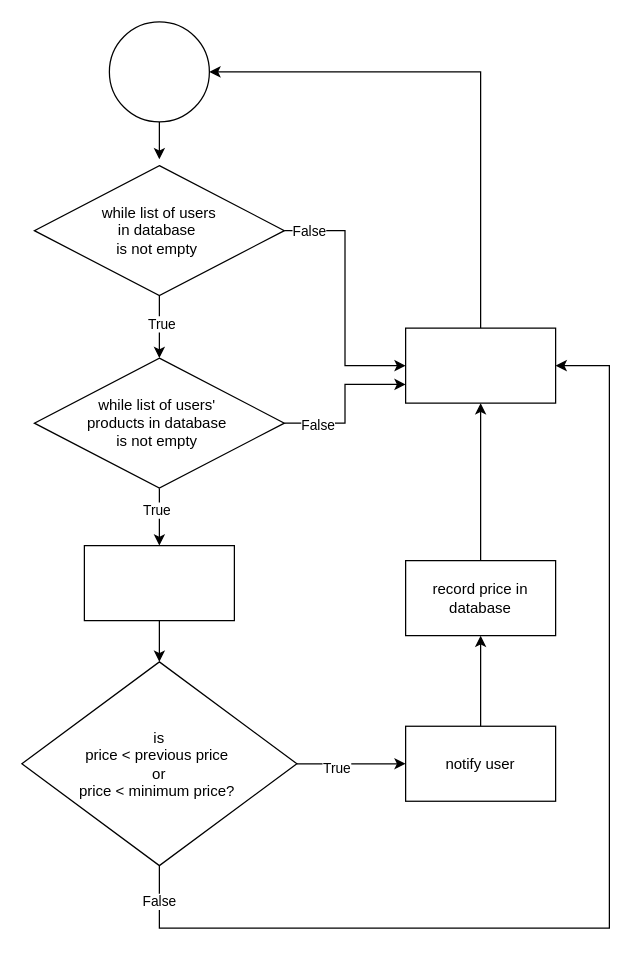
This 641x960 diagram has some shape labels left out. The centre of each missing label's shape, as x and y in pixels:
"check product price" goes at pixel 158 582.
"Start" goes at pixel 158 71.
"wait for some period of time (e.g: 4 hours)" goes at pixel 480 365.
